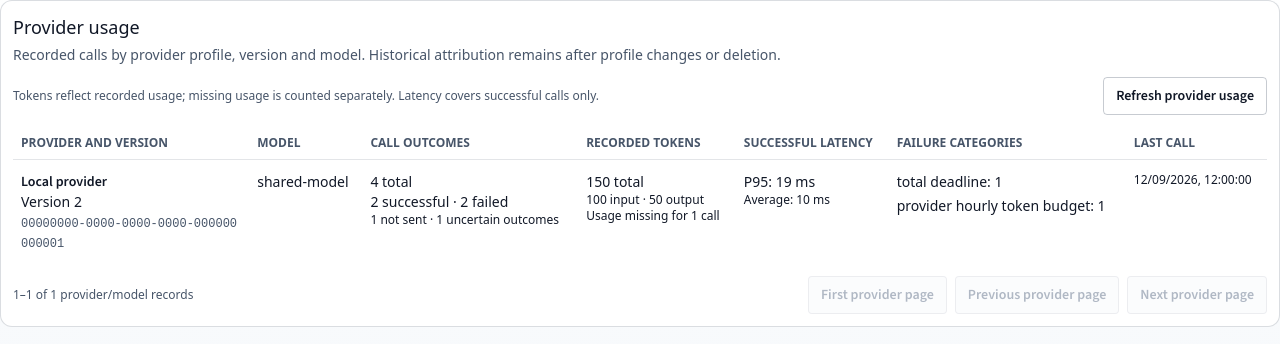
it: provider usage with a real QueryClient › hides withdrawn cached provider usage but preserves outage snapshots (401)
The width and height of the screenshot is (1280, 344).
Click the button "Refresh provider usage" at (1185, 96), box [1103,77,1267,115]
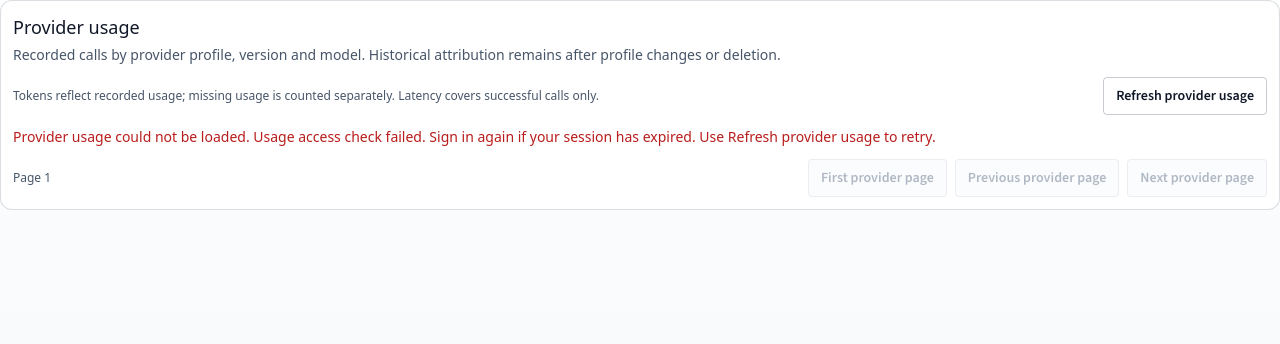
Expected: the text "Usage access check failed" is shown, [13,127,696,146]
Click the button "Refresh provider usage" at (1185, 96), box [1103,77,1267,115]
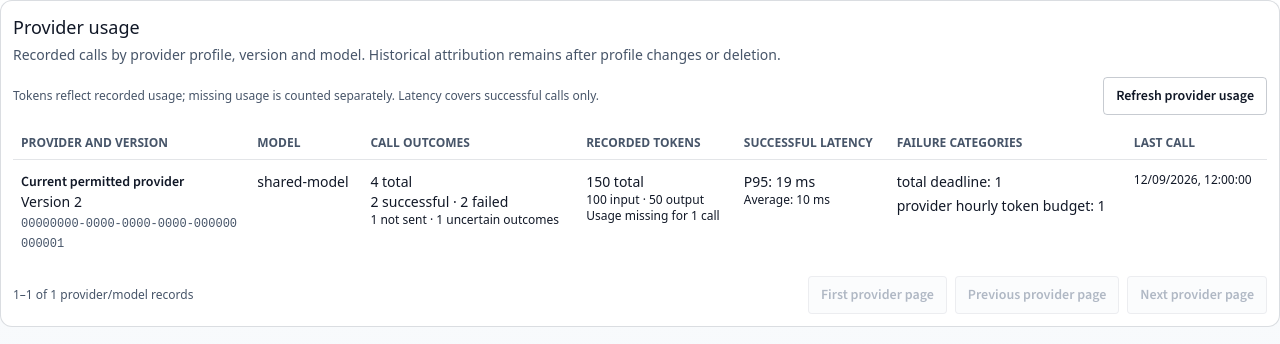
Expected: the text "Current permitted provider" is shown, [21,172,184,192]
